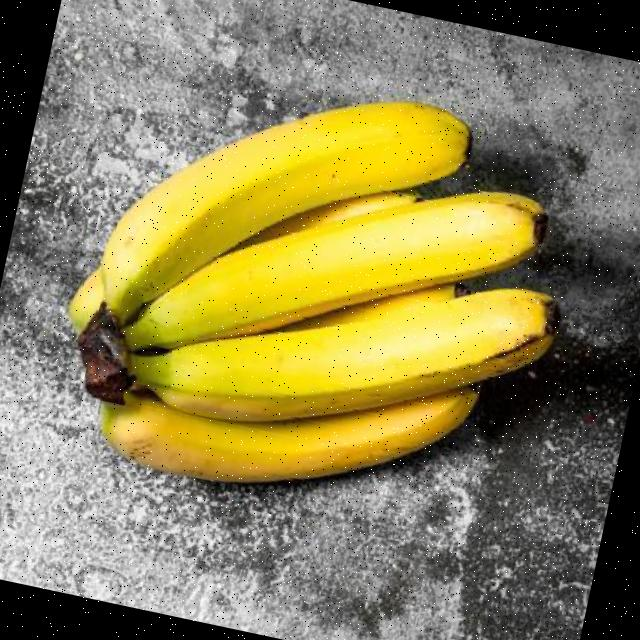banana: (132, 283, 563, 421)
